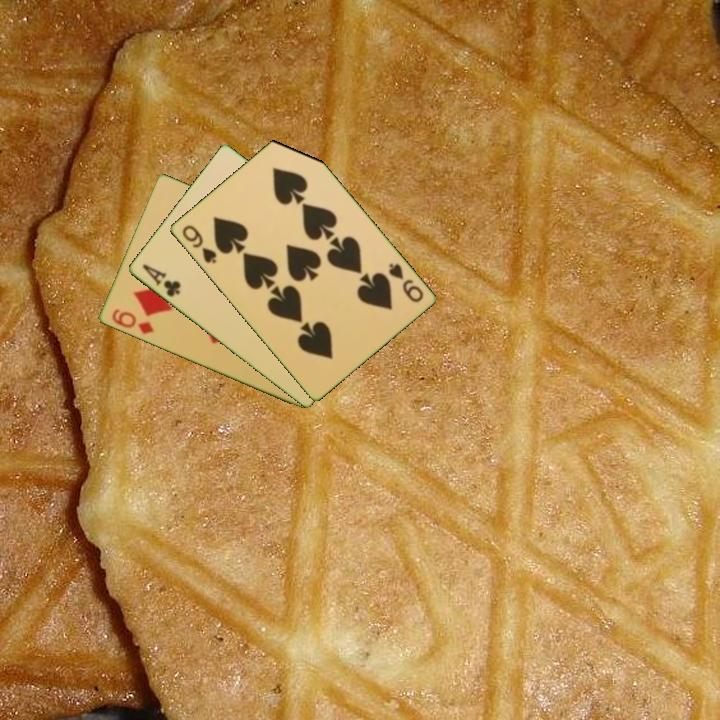6d: (108, 305, 156, 338)
9s: (178, 221, 219, 266), (385, 260, 426, 305)
Ac: (139, 260, 184, 300)
